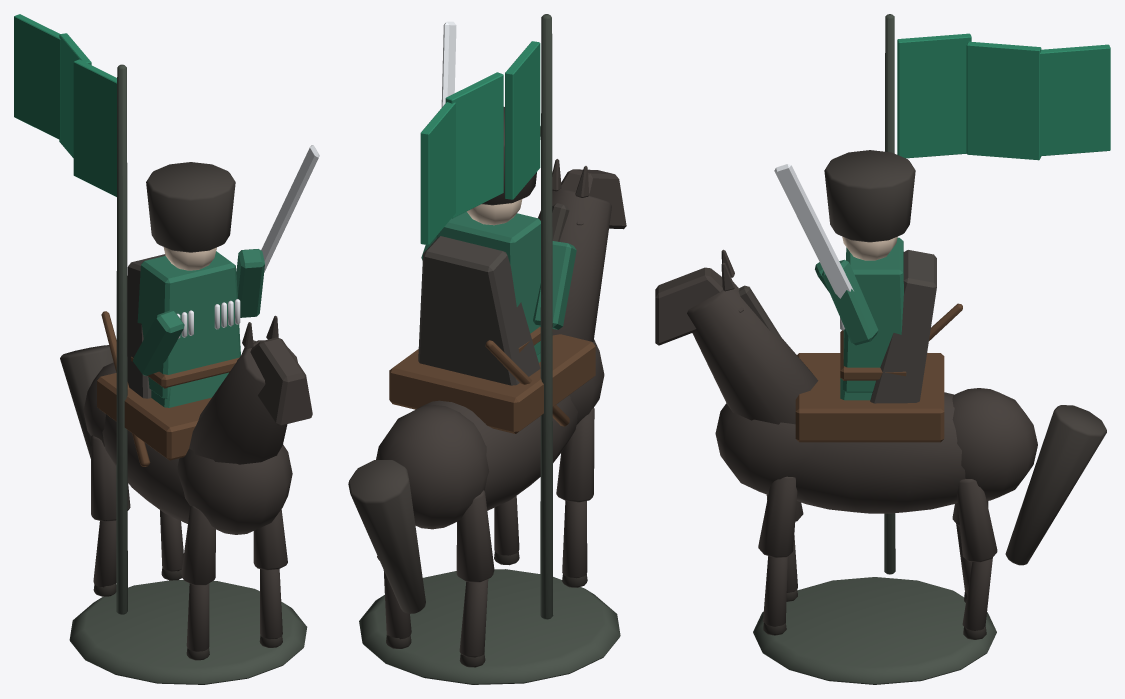
The model's file is Hero_Baysungur_Benoy.glb.
3 views of the same model, side by side, from view 1: azimuth 30°, elevation 25°; view 2: azimuth 150°, elevation 25°; view 3: azimuth 270°, elevation 25° (orthographic). The views are drawn at different scales.
Parts seen in each view (by area): view 1: Pedestal, RiderTorso, HorseChest, RiderPapakha, HorseNeck, BannerStaff, WavingBanner_0, WavingBanner_2, SaddleCloth, HorseHead, HorseBarrel, HorseTail (+17 smaller); view 2: Pedestal, BurkaCape, HorseCroup, SaddleCloth, BannerStaff, HorseTail, WavingBanner_1, HorseNeck, HorseBarrel, WavingBanner_0, RiderTorso, WavingBanner_2 (+14 smaller); view 3: Pedestal, HorseBarrel, HorseNeck, SaddleCloth, WavingBanner_0, WavingBanner_1, WavingBanner_2, RiderPapakha, HorseCroup, HorseTail, BurkaCape, HorseChest (+11 smaller).
Boxes of the visible parts, x1=… form: Pedestal: x1=69, y1=580, x2=307, y2=684; RiderTorso: x1=137, y1=251, x2=240, y2=398; HorseChest: x1=177, y1=444, x2=292, y2=534; RiderPapakha: x1=146, y1=162, x2=235, y2=252; HorseNeck: x1=189, y1=340, x2=297, y2=464; BannerStaff: x1=116, y1=64, x2=127, y2=614; WavingBanner_0: x1=73, y1=59, x2=116, y2=196; WavingBanner_2: x1=14, y1=14, x2=60, y2=139; SaddleCloth: x1=97, y1=373, x2=211, y2=460; HorseHead: x1=236, y1=337, x2=312, y2=425; HorseBarrel: x1=102, y1=414, x2=190, y2=523; HorseTail: x1=60, y1=345, x2=130, y2=510; Pedestal: x1=359, y1=569, x2=620, y2=684; BurkaCape: x1=418, y1=236, x2=540, y2=385; HorseCroup: x1=376, y1=405, x2=489, y2=529; SaddleCloth: x1=389, y1=334, x2=595, y2=433; BannerStaff: x1=540, y1=14, x2=553, y2=619; HorseTail: x1=348, y1=460, x2=425, y2=613; WavingBanner_1: x1=445, y1=72, x2=503, y2=218; HorseNeck: x1=538, y1=189, x2=611, y2=341; HorseBarrel: x1=415, y1=395, x2=577, y2=510; WavingBanner_0: x1=505, y1=41, x2=540, y2=199; RiderTorso: x1=436, y1=211, x2=540, y2=355; WavingBanner_2: x1=420, y1=102, x2=455, y2=244; Pedestal: x1=753, y1=577, x2=996, y2=684; HorseBarrel: x1=795, y1=392, x2=965, y2=513; HorseNeck: x1=687, y1=282, x2=818, y2=424; SaddleCloth: x1=795, y1=353, x2=944, y2=442; WavingBanner_0: x1=897, y1=33, x2=971, y2=158; WavingBanner_1: x1=966, y1=41, x2=1041, y2=160; WavingBanner_2: x1=1040, y1=44, x2=1110, y2=156; RiderPapakha: x1=824, y1=150, x2=915, y2=242; HorseCroup: x1=952, y1=388, x2=1037, y2=500; HorseTail: x1=1005, y1=405, x2=1106, y2=565; BurkaCape: x1=870, y1=250, x2=936, y2=403; HorseChest: x1=715, y1=403, x2=814, y2=494.
Bounding box in the file's own units: 0.9845 × 2.62 × 1.84.
